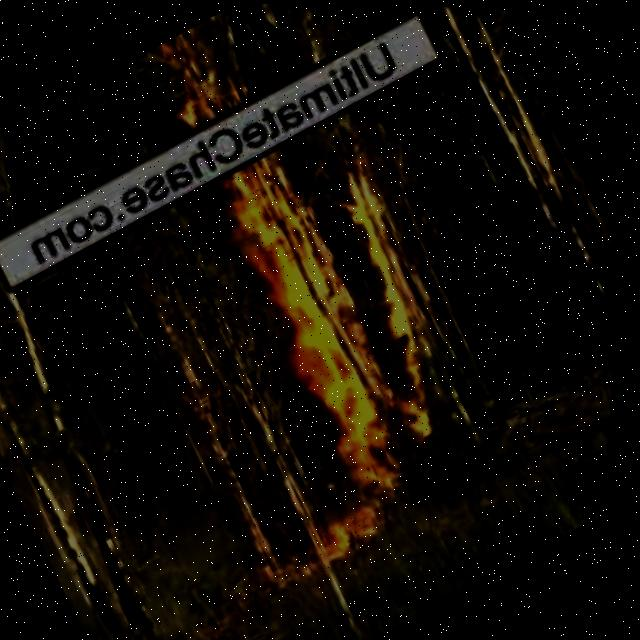Fire: (181, 113, 504, 488), (153, 24, 254, 126), (320, 499, 396, 562)
